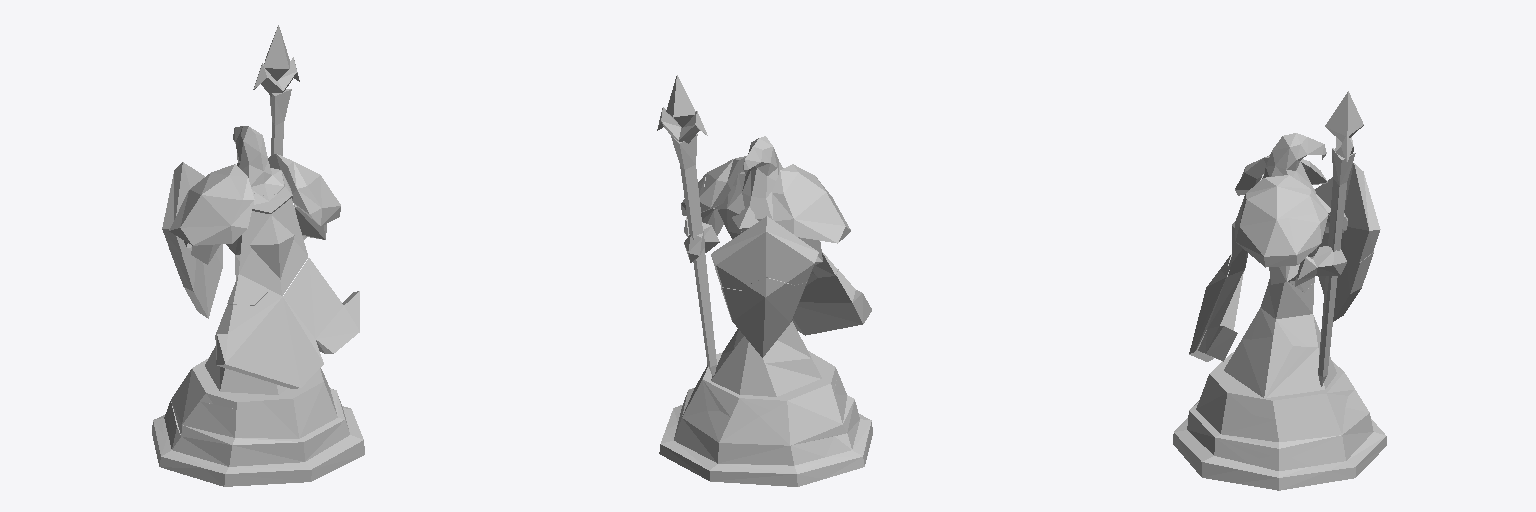
File: red_tower.obj
The picture shows the model from 3 angles: view 1: azimuth 30°, elevation 25°; view 2: azimuth 150°, elevation 25°; view 3: azimuth 270°, elevation 25°; orthographic projection.
Parts seen in each view (by area): view 1: v_body.001_未命名.003; view 2: v_body.001_未命名.003; view 3: v_body.001_未命名.003.
Part boxes in pixels (left/top/right/bottom): v_body.001_未命名.003: left=152, top=25, right=364, bottom=486; v_body.001_未命名.003: left=657, top=75, right=872, bottom=486; v_body.001_未命名.003: left=1173, top=91, right=1386, bottom=490.
Bounding box in the file's own units: 69.41 × 132 × 66.37.